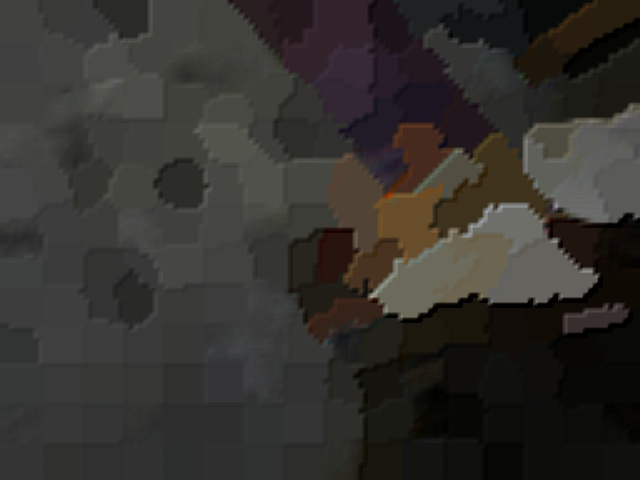eight: (565, 143, 637, 206)
